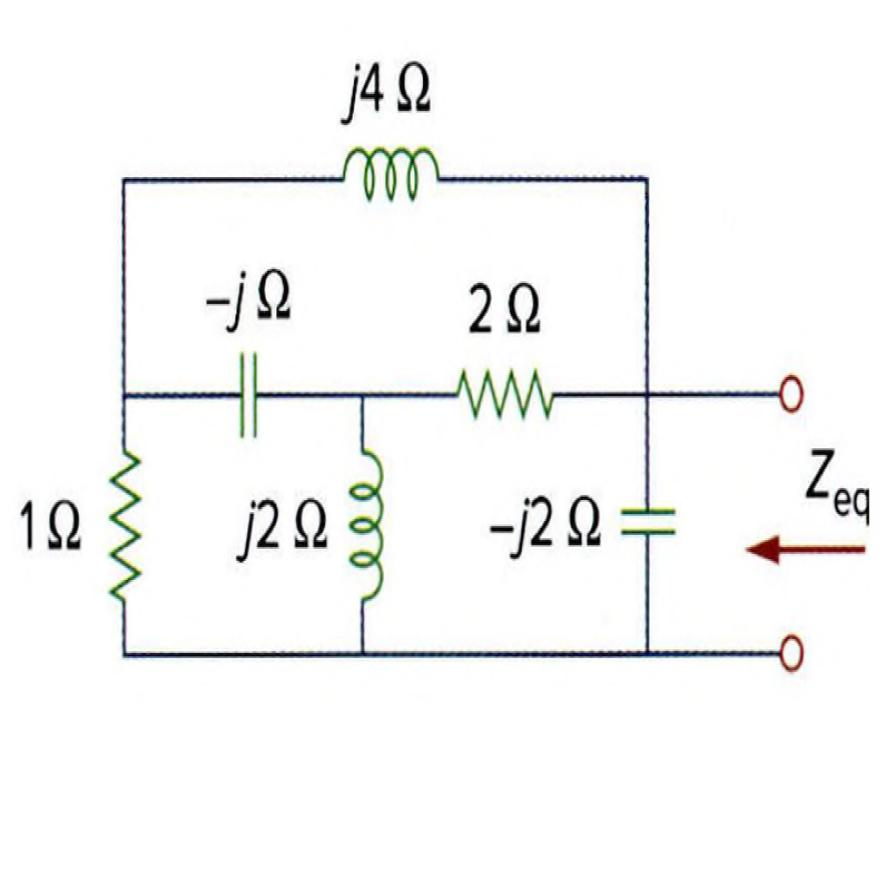C1: (230, 339, 272, 449)
C2: (613, 485, 688, 556)
L1: (330, 134, 450, 213)
L2: (338, 423, 394, 610)
